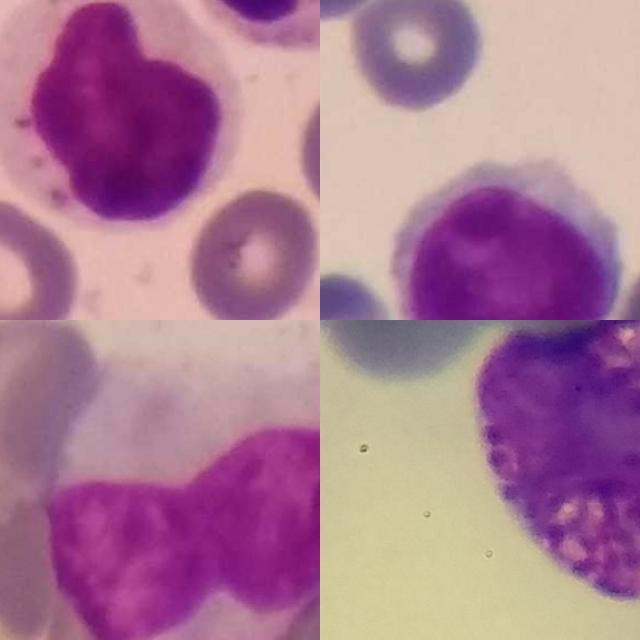Basophil: (476, 320, 640, 604)
Lymphocyte: (0, 0, 246, 235), (385, 154, 622, 320)
Monocyte: (49, 367, 320, 640)
